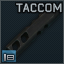MPX TACCOM muzzle brake: (0, 0, 64, 64)
